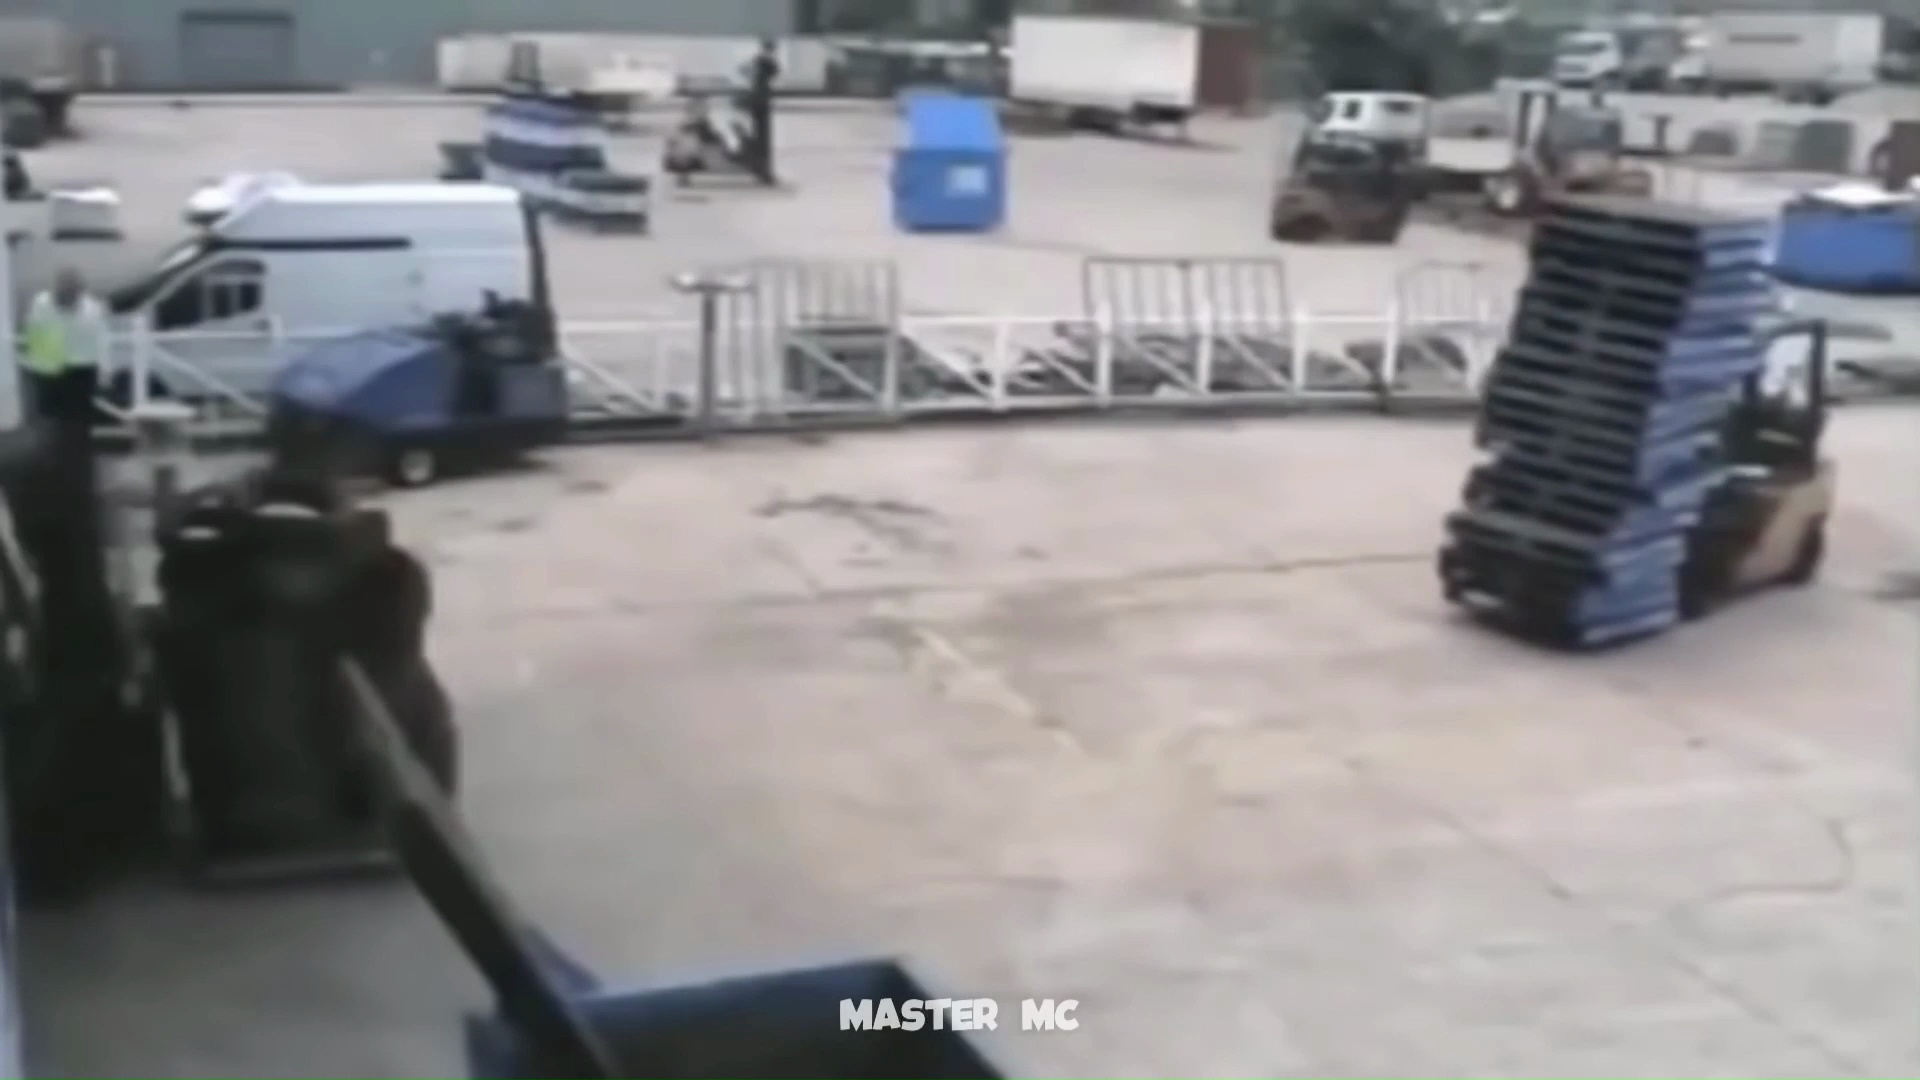forklift: (4, 442, 468, 891), (1435, 196, 1837, 651)
